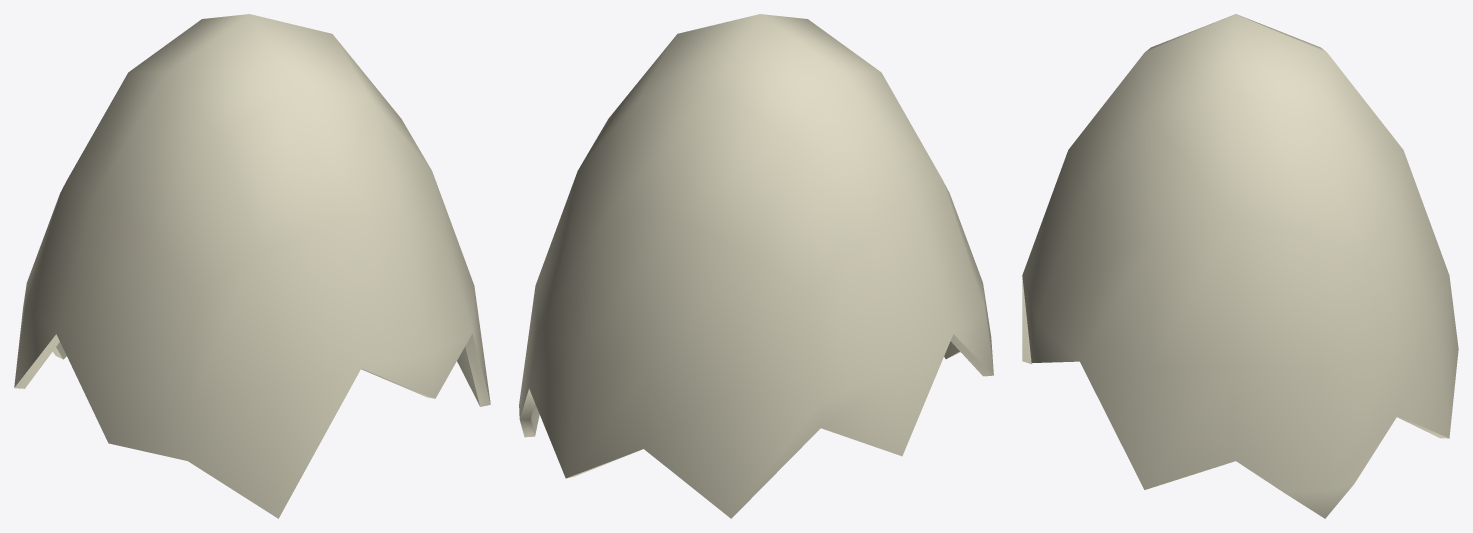
The model's file is egg_top.fbx.
3 renders of one model, left to right at view 1: azimuth 30°, elevation 25°; view 2: azimuth 150°, elevation 25°; view 3: azimuth 270°, elevation 25°, orthographic. The views are drawn at different scales.
Parts seen in each view (by area): view 1: egg_top; view 2: egg_top; view 3: egg_top.
Boxes of the visible parts, box(x1,y1,x2,y2) form: egg_top: box(14, 14, 490, 518); egg_top: box(519, 14, 993, 518); egg_top: box(1022, 14, 1458, 518).
Bounding box in the file's own units: 0.8411 × 0.8814 × 0.837.
